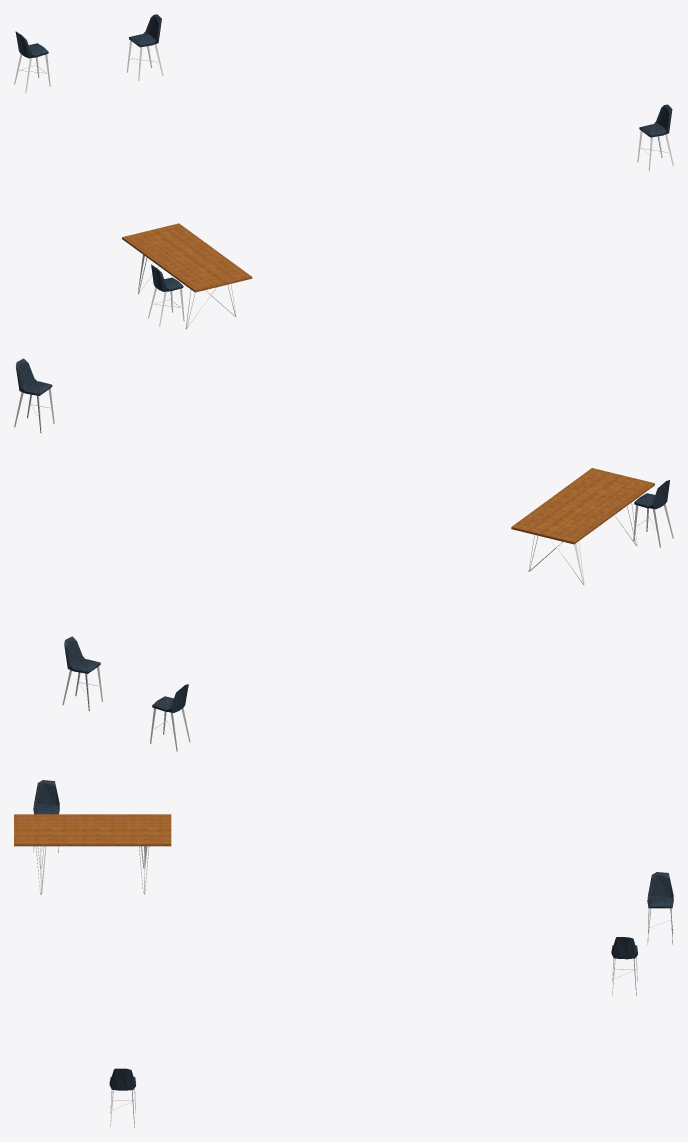
File: 2bhk table.gltf
3 renders of one model, top to bottom at view 1: azimuth 30°, elevation 25°; view 2: azimuth 150°, elevation 25°; view 3: azimuth 270°, elevation 25°, orthographic. The views are drawn at different scales.
Visible parts, largest first — view 1: skp3253, SketchUp; view 2: skp3253, SketchUp; view 3: skp3253, SketchUp.
Boxes of the visible parts, left/top/right/bottom form: skp3253: left=122, top=223, right=252, bottom=329; SketchUp: left=14, top=14, right=673, bottom=171; skp3253: left=511, top=468, right=673, bottom=585; SketchUp: left=14, top=358, right=190, bottom=751; skp3253: left=14, top=780, right=171, bottom=894; SketchUp: left=109, top=872, right=673, bottom=1127.
Bounding box in the file's own units: 6.97 × 0.8309 × 6.71.
Materials: 5 (2 with a texture image).
